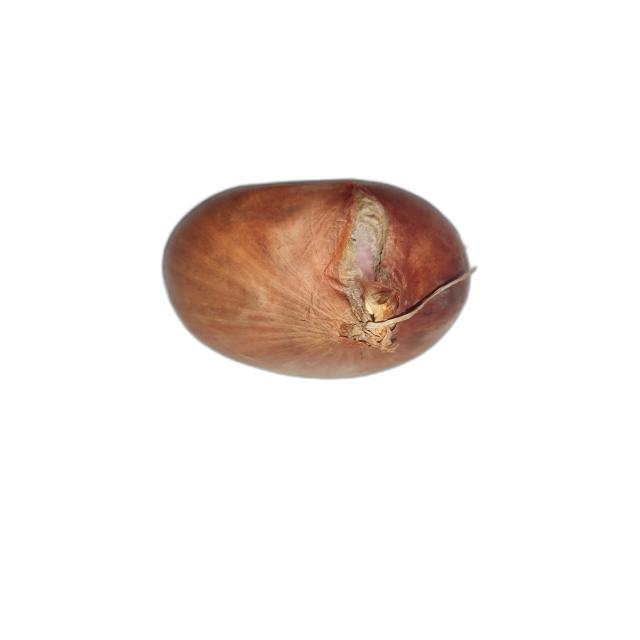onion: (162, 179, 477, 380)
